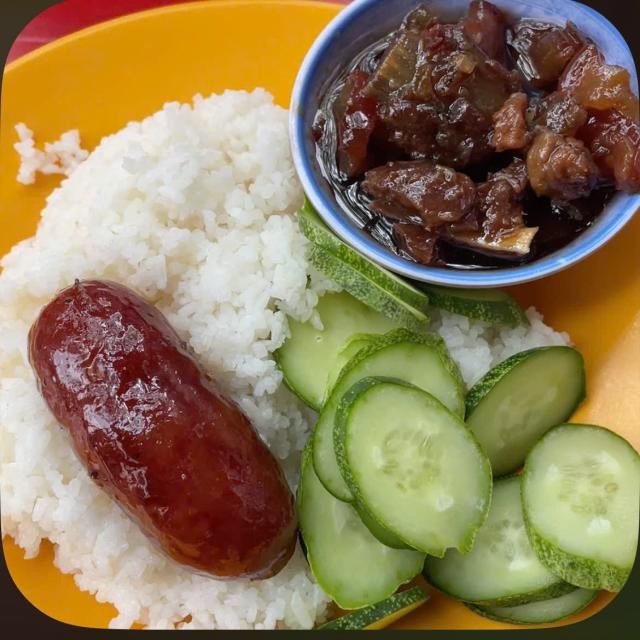thit_kho: (356, 28, 599, 244)
